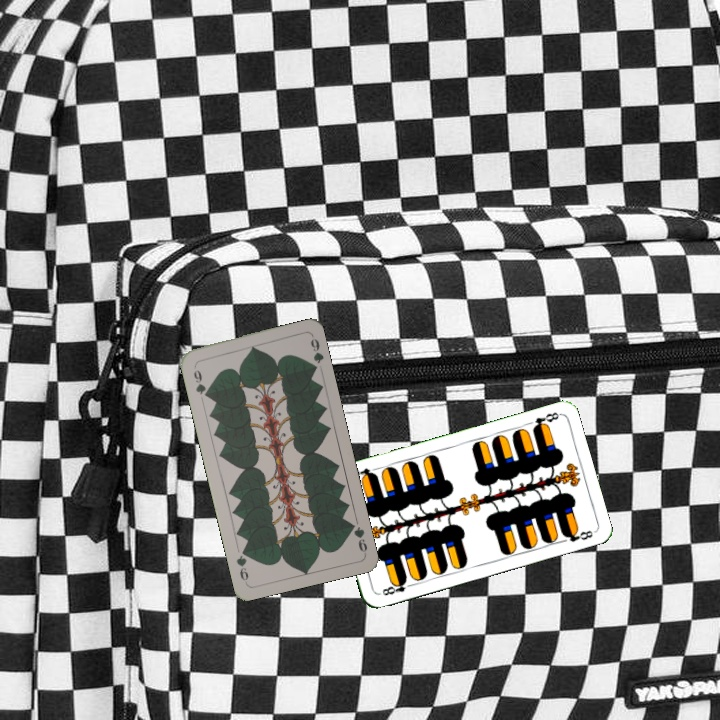E8: (378, 575, 415, 598), (528, 408, 562, 433)
G9: (345, 518, 370, 556), (190, 361, 211, 400)
